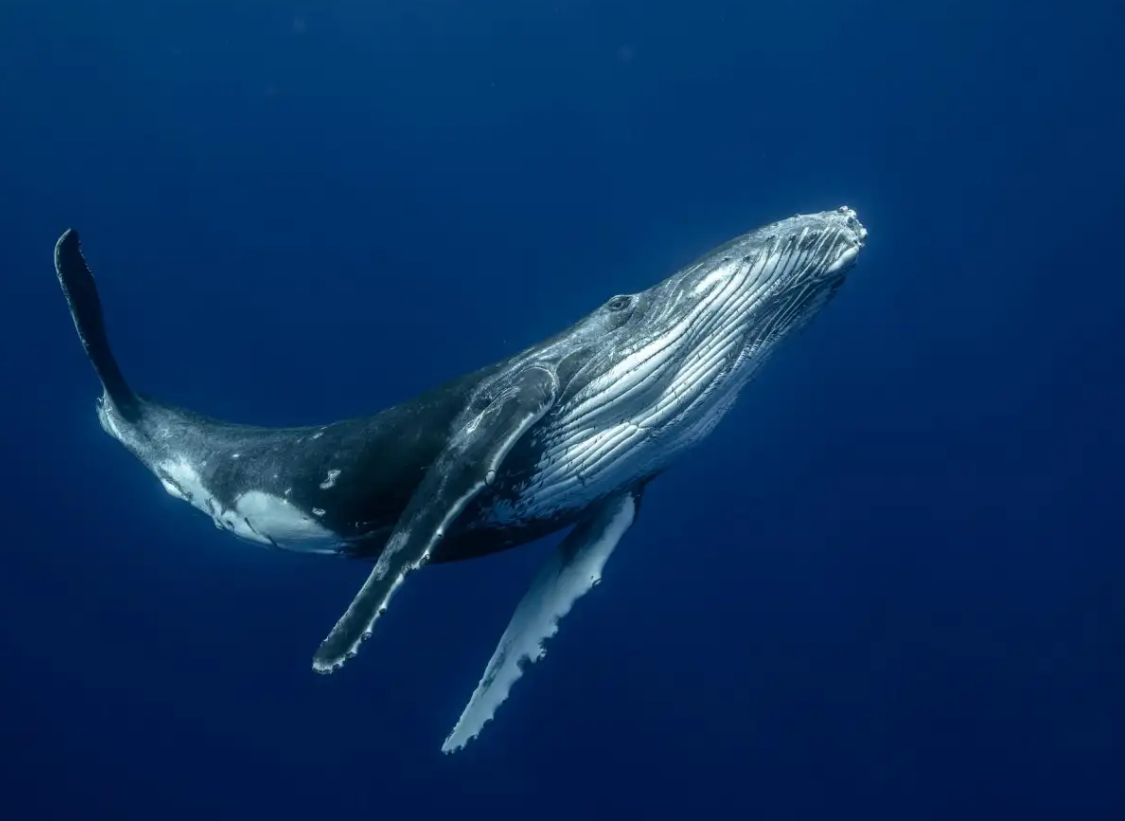Humpback whale: (41, 197, 876, 760)
